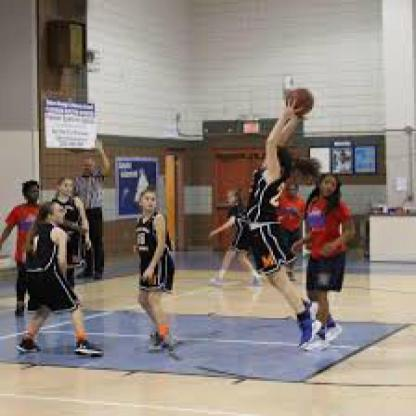basketball: (284, 88, 316, 114)
